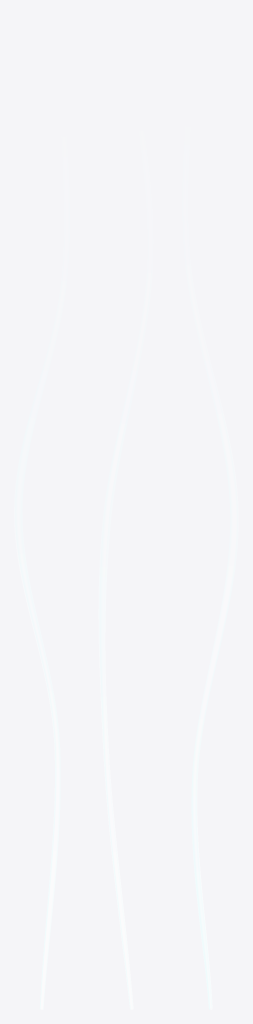
File: strand_d_scenic.glb
3 renders of one model, left to right at view 1: azimuth 90°, elevation 25°; view 2: azimuth 150°, elevation 25°; view 3: azimuth 270°, elevation 25°, orthographic.
Bounding box in the file's own units: 0.3336 × 7 × 0.3586.
